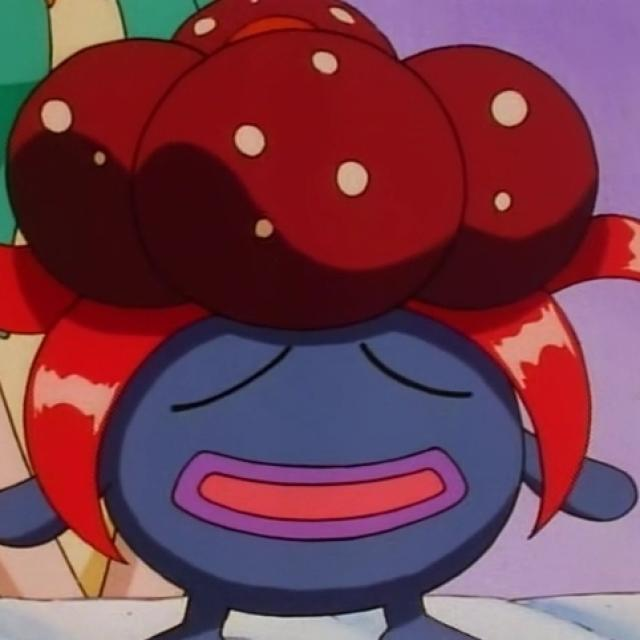Gloom: (76, 11, 574, 640)
